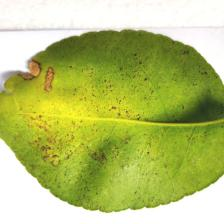canker: (11, 49, 176, 168)
